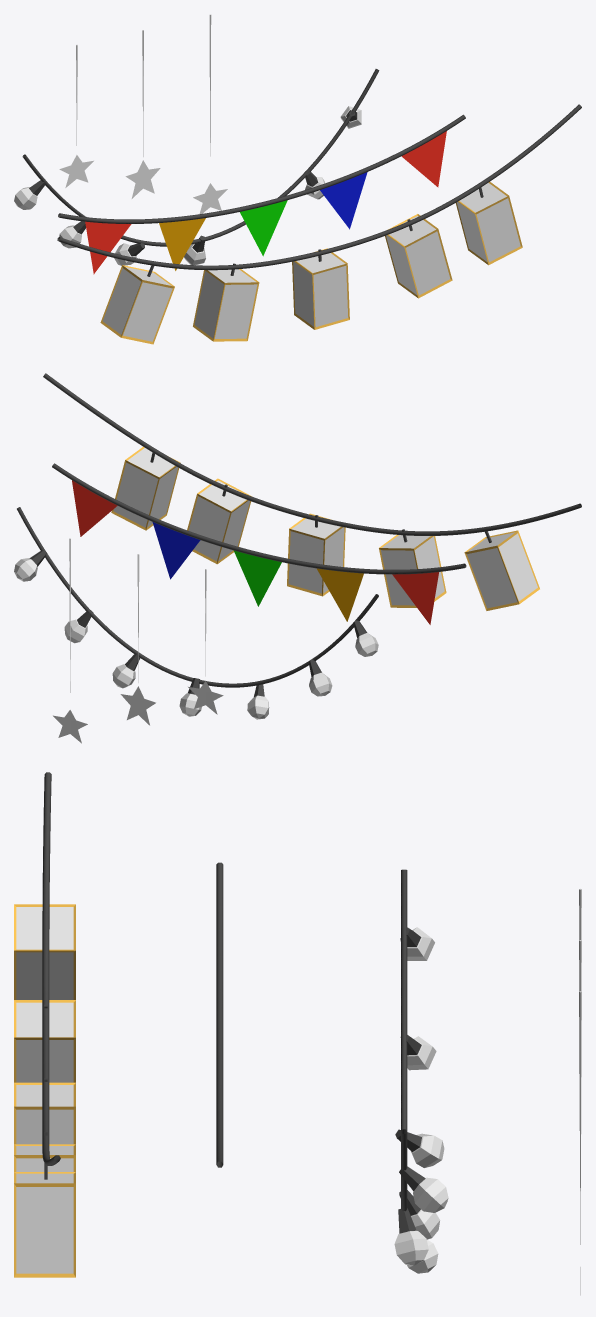
Rendered from fairy_lights.fbx.
The picture shows the model from 3 angles, top to bottom: view 1: azimuth 30°, elevation 25°; view 2: azimuth 150°, elevation 25°; view 3: azimuth 270°, elevation 25°; orthographic projection. The views are drawn at different scales.
Visible parts, largest first — view 1: square_lamp, square_lamp.001, square_lamp.002, square_lamp.004, square_lamp.003, square-lamp-cable, bandeirinhas-cable, fairy-lights-cable, Plane.002, Plane.001, Plane, Plane.003 (+6 smaller); view 2: square_lamp, square_lamp.004, square_lamp.003, square_lamp.002, square-lamp-cable, square_lamp.001, bandeirinhas-cable, fairy-lights-cable, Plane.004, Plane.002, Plane.001, Plane.003 (+11 smaller); view 3: square_lamp.004, square_lamp, square_lamp.001, square_lamp.002, square-lamp-cable, bandeirinhas-cable, fairy-lights-cable, square_lamp.003, light.006, light.005, light.002, light.001 (+2 smaller).
Boxes of the visible parts, <box> form: square_lamp: <box>100,265,174,344</box>; square_lamp.001: <box>193,263,259,341</box>; square_lamp.002: <box>292,248,349,329</box>; square_lamp.004: <box>455,182,522,265</box>; square_lamp.003: <box>385,214,452,298</box>; square-lamp-cable: <box>57,104,581,270</box>; bandeirinhas-cable: <box>58,114,465,223</box>; fairy-lights-cable: <box>22,69,379,246</box>; Plane.002: <box>240,200,287,256</box>; Plane.001: <box>320,172,367,229</box>; Plane: <box>401,131,446,187</box>; Plane.003: <box>159,218,205,270</box>; square_lamp: <box>464,530,539,610</box>; square_lamp.004: <box>111,446,180,530</box>; square_lamp.003: <box>187,478,251,564</box>; square_lamp.002: <box>287,513,345,596</box>; square-lamp-cable: <box>43,373,581,535</box>; square_lamp.001: <box>379,529,446,607</box>; bandeirinhas-cable: <box>52,463,466,574</box>; fairy-lights-cable: <box>17,507,378,687</box>; Plane.004: <box>392,572,438,624</box>; Plane.002: <box>233,550,281,606</box>; Plane.001: <box>152,522,200,579</box>; Plane.003: <box>316,568,363,621</box>; square_lamp.004: <box>14,1163,75,1277</box>; square_lamp: <box>14,904,75,999</box>; square_lamp.001: <box>14,1000,75,1082</box>; square_lamp.002: <box>14,1078,75,1144</box>; square-lamp-cable: <box>42,772,60,1165</box>; bandeirinhas-cable: <box>216,862,223,1167</box>; fairy-lights-cable: <box>401,869,407,1211</box>; square_lamp.003: <box>14,1132,75,1171</box>; light.006: <box>399,1166,448,1212</box>; light.005: <box>394,1208,428,1265</box>; light.002: <box>395,1129,444,1167</box>; light.001: <box>400,1034,436,1070</box>.
Size of the model in its own units: 520 by 190 by 320.
